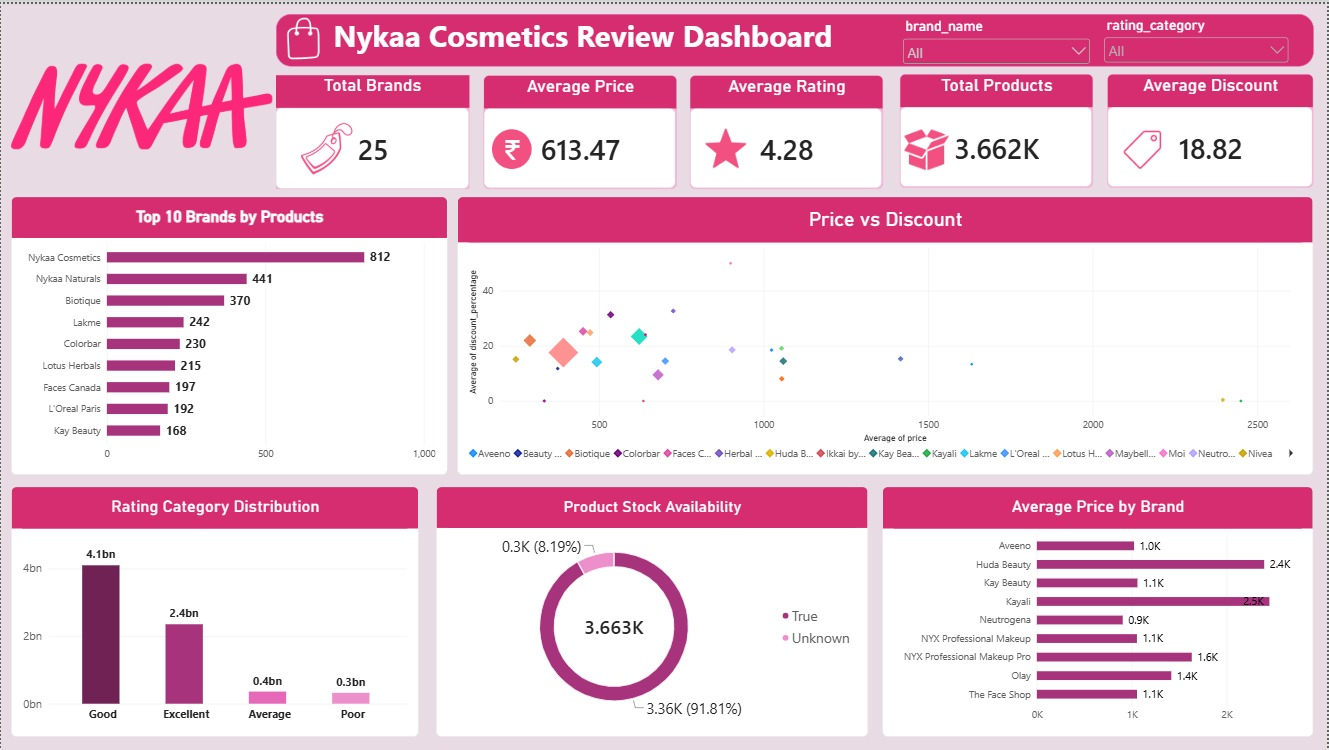

The dashboard page shown, as its layout file describes it:
{"tool":"powerbi","page":{"name":"Page 1","canvas":[1920,1080],"ordinal":0},"visuals":[{"type":"cardVisual","title":"Average Rating","fields":{"Data":["Avg(nykaa_cleaned_products (1).rating)"]},"box":[996.2,102.9,279.9,164.7],"z":0},{"type":"cardVisual","title":"Average Price","fields":{"Data":["Avg(nykaa_cleaned_products (1).price)"]},"box":[697.8,102.9,279.9,164.7],"z":1000},{"type":"cardVisual","title":"Total Brands","fields":{"Data":["Count(nykaa_cleaned_products (1).brand_name)"]},"box":[397.3,102.9,279.9,164.7],"z":2000},{"type":"cardVisual","title":"Total Products","fields":{"Data":["Count(nykaa_cleaned_products (1).product_id)"]},"box":[1300.9,100.9,279.9,164.7],"z":3000},{"type":"cardVisual","title":"Average Discount","fields":{"Data":["Avg(nykaa_cleaned_products (1).discount_percentage)"]},"box":[1601.4,100.9,298.5,164.7],"z":4000},{"type":"textbox","box":[397.3,14.4,1502.6,76.2],"z":5000},{"type":"image","box":[413.7,170.8,115.3,78.2],"z":6000},{"type":"image","box":[685.4,177,107,65.9],"z":7000},{"type":"image","box":[1006.5,179.1,86.4,59.7],"z":8000},{"type":"image","box":[1305,179.1,70,63.8],"z":9000},{"type":"image","box":[1619.9,181.1,65.9,59.7],"z":10000},{"type":"clusteredBarChart","title":"Top 10 Brands by Products","fields":{"Category":["nykaa_cleaned_products (1).brand_name"],"Y":["CountNonNull(nykaa_cleaned_products (1).product_id)"]},"box":[14.4,277.9,631.9,403.4],"z":11000},{"type":"clusteredColumnChart","title":"Rating Category Distribution","fields":{"Category":["nykaa_cleaned_products (1).rating_category"],"Y":["Sum(nykaa_cleaned_products (1).product_id)"]},"box":[14.4,697.8,590.7,362.3],"z":12000},{"type":"donutChart","title":"Product Stock Availability","fields":{"Category":["nykaa_cleaned_products (1).in_stock"],"Y":["CountNonNull(nykaa_cleaned_products (1).product_id)"]},"box":[629.8,697.8,625.7,362.3],"z":13000},{"type":"clusteredBarChart","title":"Average Price by Brand","fields":{"Category":["nykaa_cleaned_products (1).brand_name"],"Y":["Avg(nykaa_cleaned_products (1).price)"]},"box":[1276.2,697.8,623.7,362.3],"z":14000},{"type":"image","box":[14.4,0,378.7,296.4],"z":15000},{"type":"scatterChart","title":"Price vs Discount","fields":{"X":["Avg(nykaa_cleaned_products (1).price)"],"Y":["Avg(nykaa_cleaned_products (1).discount_percentage)"],"Size":["Sum(nykaa_cleaned_products (1).rating_count)"],"Series":["nykaa_cleaned_products (1).brand_name"]},"box":[660.7,277.9,1239.1,403.4],"z":16000},{"type":"slicer","fields":{"Values":["nykaa_cleaned_products (1).brand_name"]},"box":[1300.9,20.6,279.9,100.9],"z":17000},{"type":"slicer","fields":{"Values":["nykaa_cleaned_products (1).rating_category"]},"box":[1593.1,18.5,275.8,113.2],"z":18000},{"type":"image","box":[397.3,14.4,80.3,70],"z":19000}]}

Visuals, with their boxes in screenshot pixels (x1, y1, x2, y2), scaled from the page's 1920x1080 canvas onto the 1329x750 screenshot:
"Average Rating" cardVisual: BBox(690, 71, 883, 186)
"Average Price" cardVisual: BBox(483, 71, 677, 186)
"Total Brands" cardVisual: BBox(275, 71, 469, 186)
"Total Products" cardVisual: BBox(900, 70, 1094, 184)
"Average Discount" cardVisual: BBox(1108, 70, 1315, 184)
textbox: BBox(275, 10, 1315, 63)
image: BBox(286, 119, 366, 173)
image: BBox(474, 123, 548, 169)
image: BBox(697, 124, 756, 166)
image: BBox(903, 124, 952, 169)
image: BBox(1121, 126, 1167, 167)
"Top 10 Brands by Products" clusteredBarChart: BBox(10, 193, 447, 473)
"Rating Category Distribution" clusteredColumnChart: BBox(10, 485, 419, 736)
"Product Stock Availability" donutChart: BBox(436, 485, 869, 736)
"Average Price by Brand" clusteredBarChart: BBox(883, 485, 1315, 736)
image: BBox(10, 0, 272, 206)
"Price vs Discount" scatterChart: BBox(457, 193, 1315, 473)
slicer - nykaa_cleaned_products (1).brand_name: BBox(900, 14, 1094, 84)
slicer - nykaa_cleaned_products (1).rating_category: BBox(1103, 13, 1294, 91)
image: BBox(275, 10, 331, 59)
